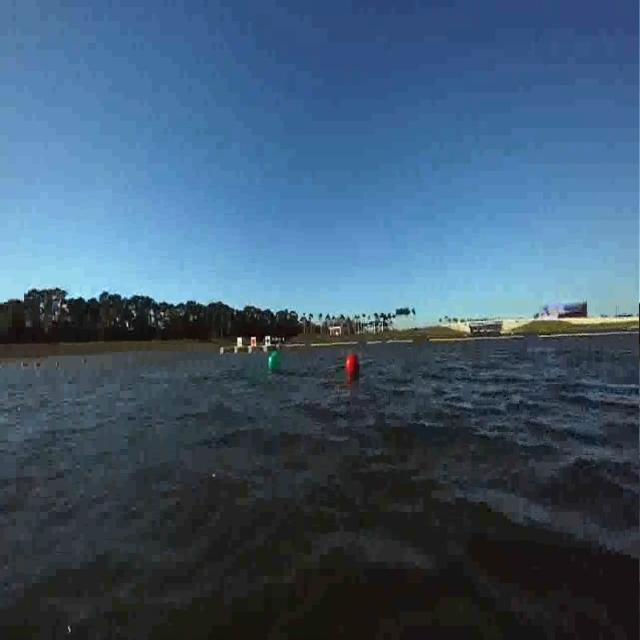green-buoy: (269, 351, 284, 372)
red-buoy: (347, 355, 359, 373)
